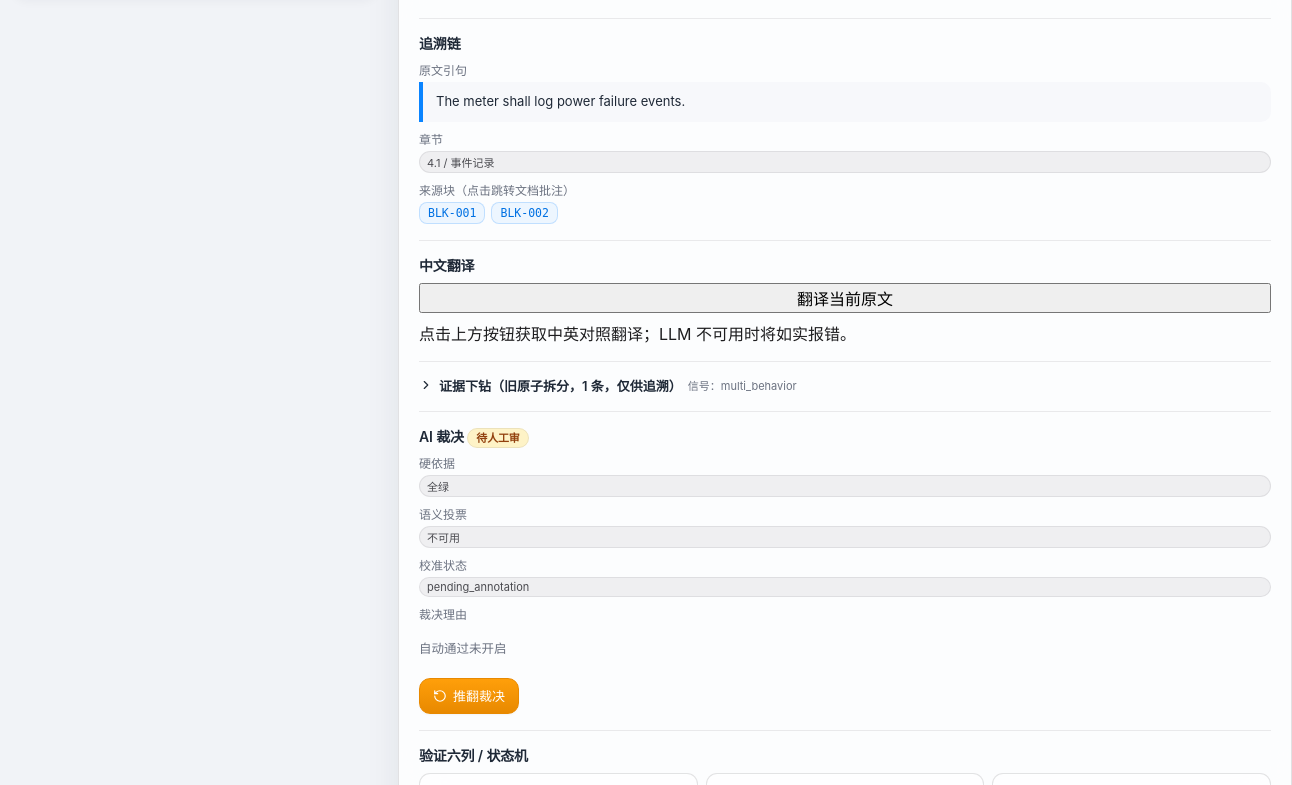
FunctionalReview (WS-F) › exposes drilled subatoms as children with a drilldown signal (Cap1)
(page scrolled)
Step 1. Click the button with test id "toggle-children" → (560,386), box left=419, top=376, right=1271, bottom=395
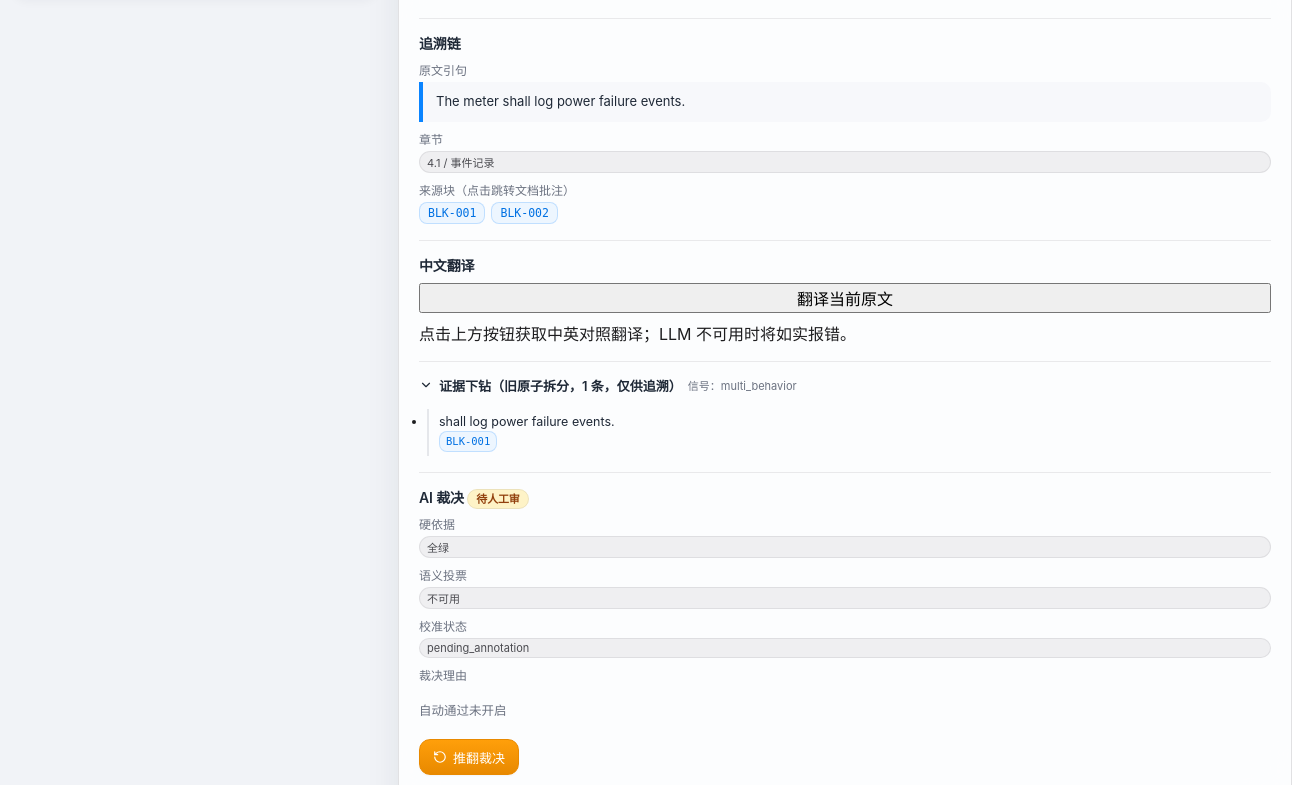
Result: the list with test id "subatom-list" is shown at left=419, top=409, right=1271, bottom=456
Result: the list with test id "subatom-list" shows "shall log power failure events." at left=439, top=414, right=615, bottom=429
